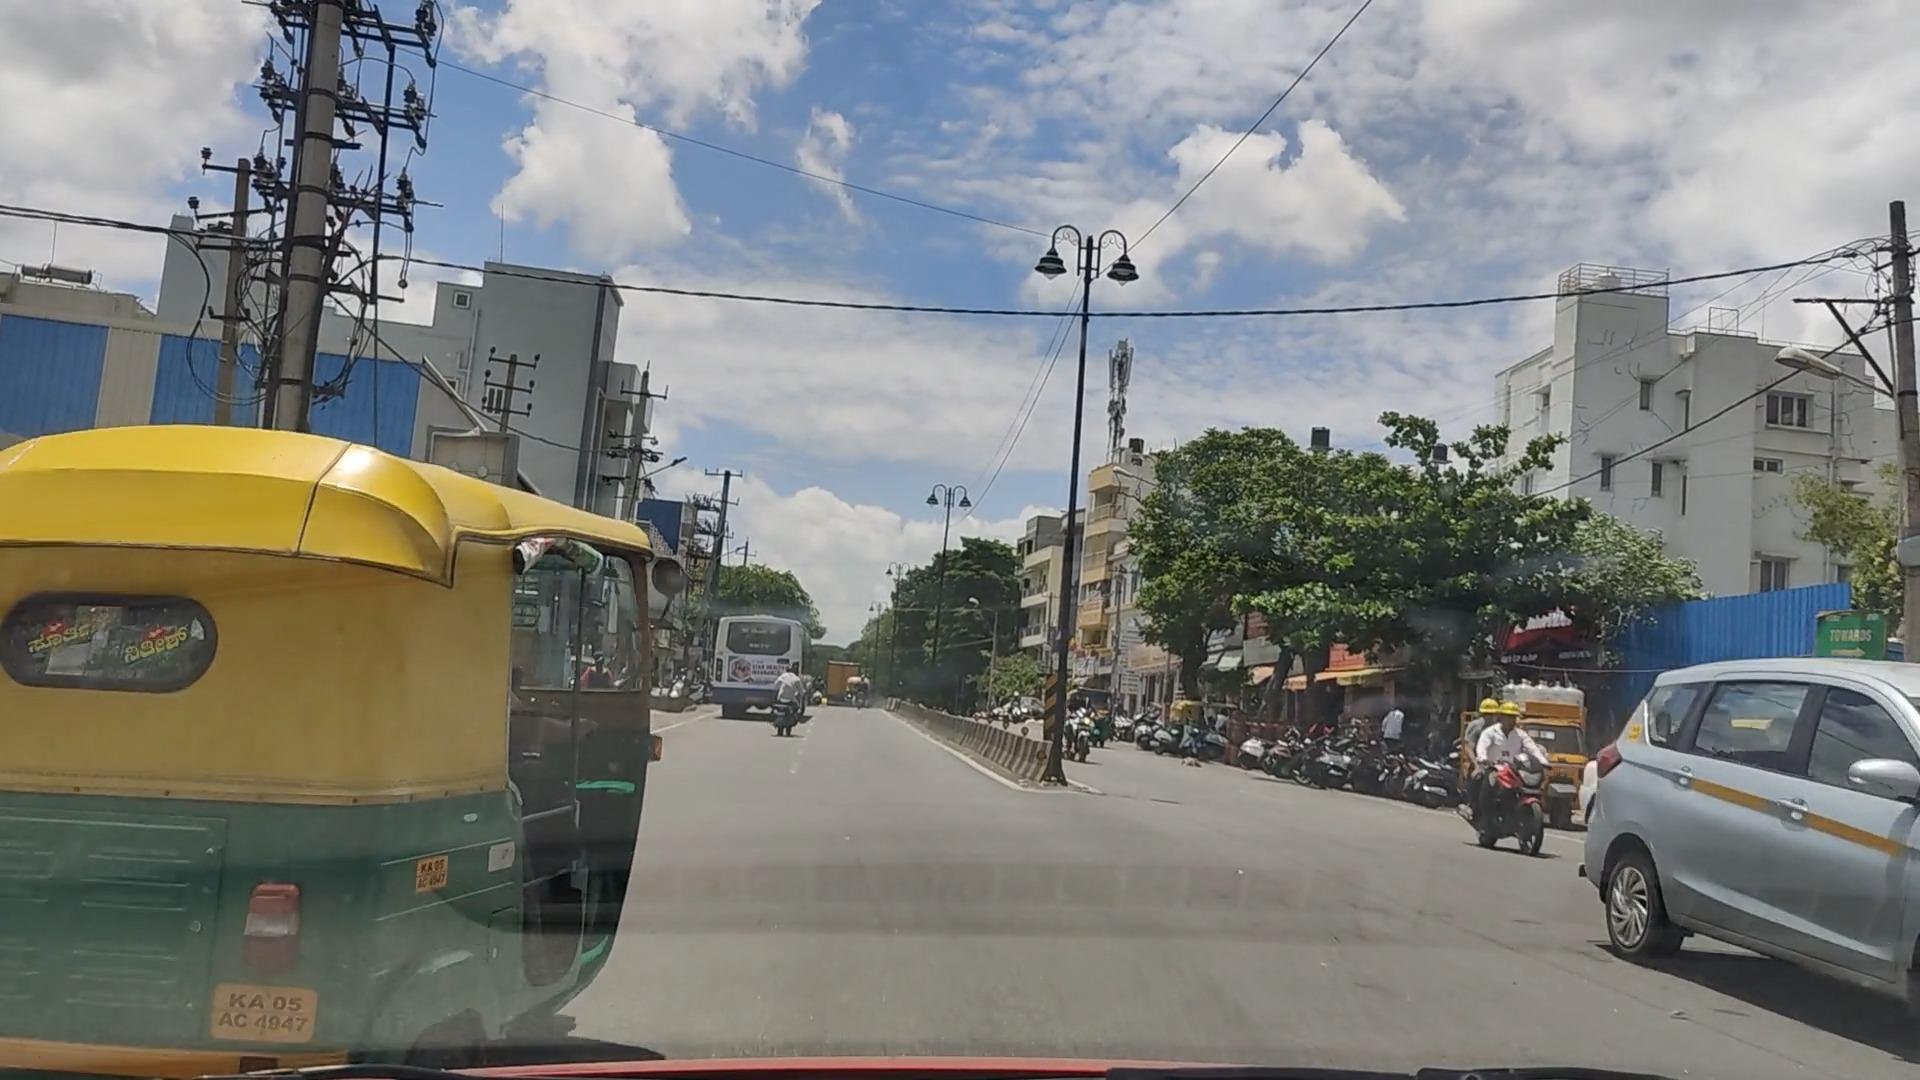LMV: (16, 423, 674, 1080)
